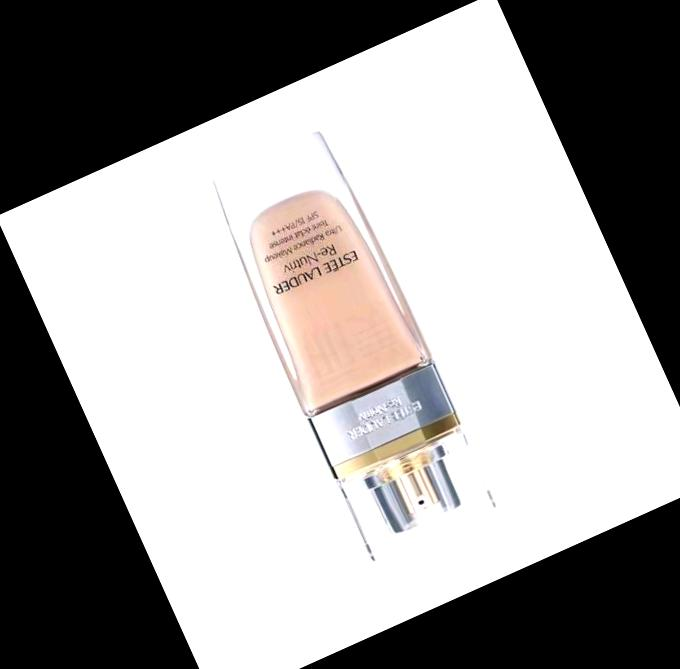cosmetic: (203, 124, 497, 561)
